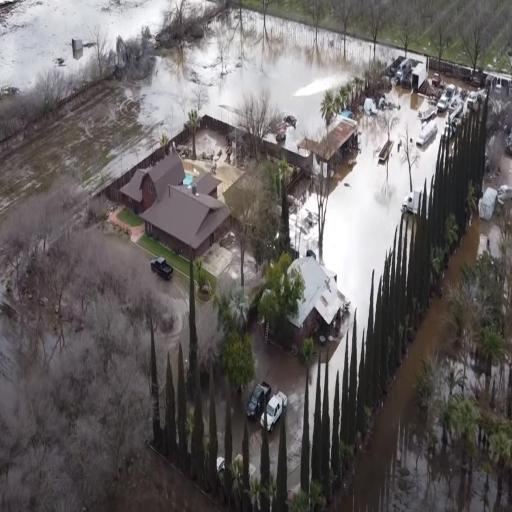flood: (336, 216, 500, 511), (108, 10, 372, 174), (324, 85, 427, 419), (378, 405, 499, 511), (230, 323, 306, 490), (105, 445, 220, 512), (413, 117, 445, 189), (214, 369, 225, 456), (248, 418, 261, 477), (269, 424, 280, 474), (496, 153, 512, 185), (203, 383, 209, 436)
house: (259, 254, 350, 359), (145, 188, 227, 273), (120, 146, 176, 218), (306, 114, 357, 176)
